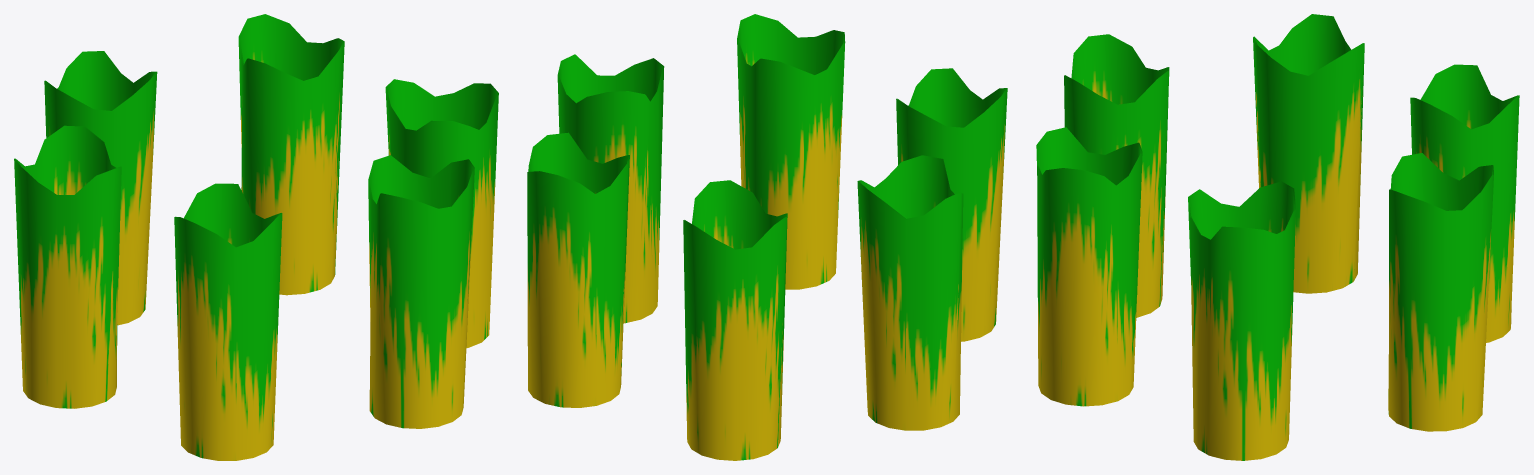
Rendered from p_renderable_oreprospector_use03_watersplashcylinder01.fbx.
3 renders of one model, left to right at view 1: azimuth 30°, elevation 25°; view 2: azimuth 150°, elevation 25°; view 3: azimuth 270°, elevation 25°, orthographic.
Visible parts, largest first — view 1: pCylinder6.005; view 2: pCylinder6.005; view 3: pCylinder6.005.
Boxes of the visible parts, x1,y1,x2,y2 form: pCylinder6.005: [14, 14, 498, 460]; pCylinder6.005: [527, 14, 1007, 460]; pCylinder6.005: [1036, 14, 1519, 460].
Bounding box in the file's own units: 0.9858 × 0.5216 × 0.9343.
